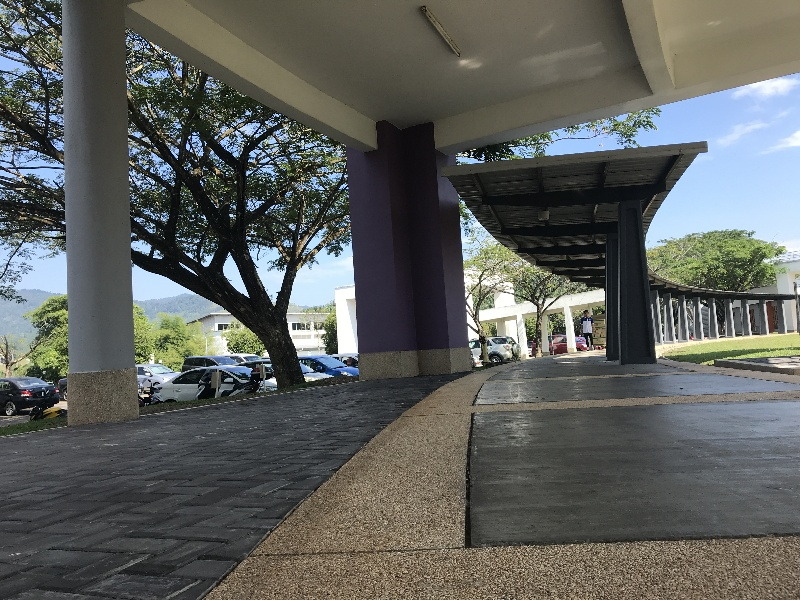Block D Pillar 6: (8, 6, 800, 548)
pillar: (53, 6, 146, 432), (338, 109, 473, 380), (601, 201, 661, 370)
